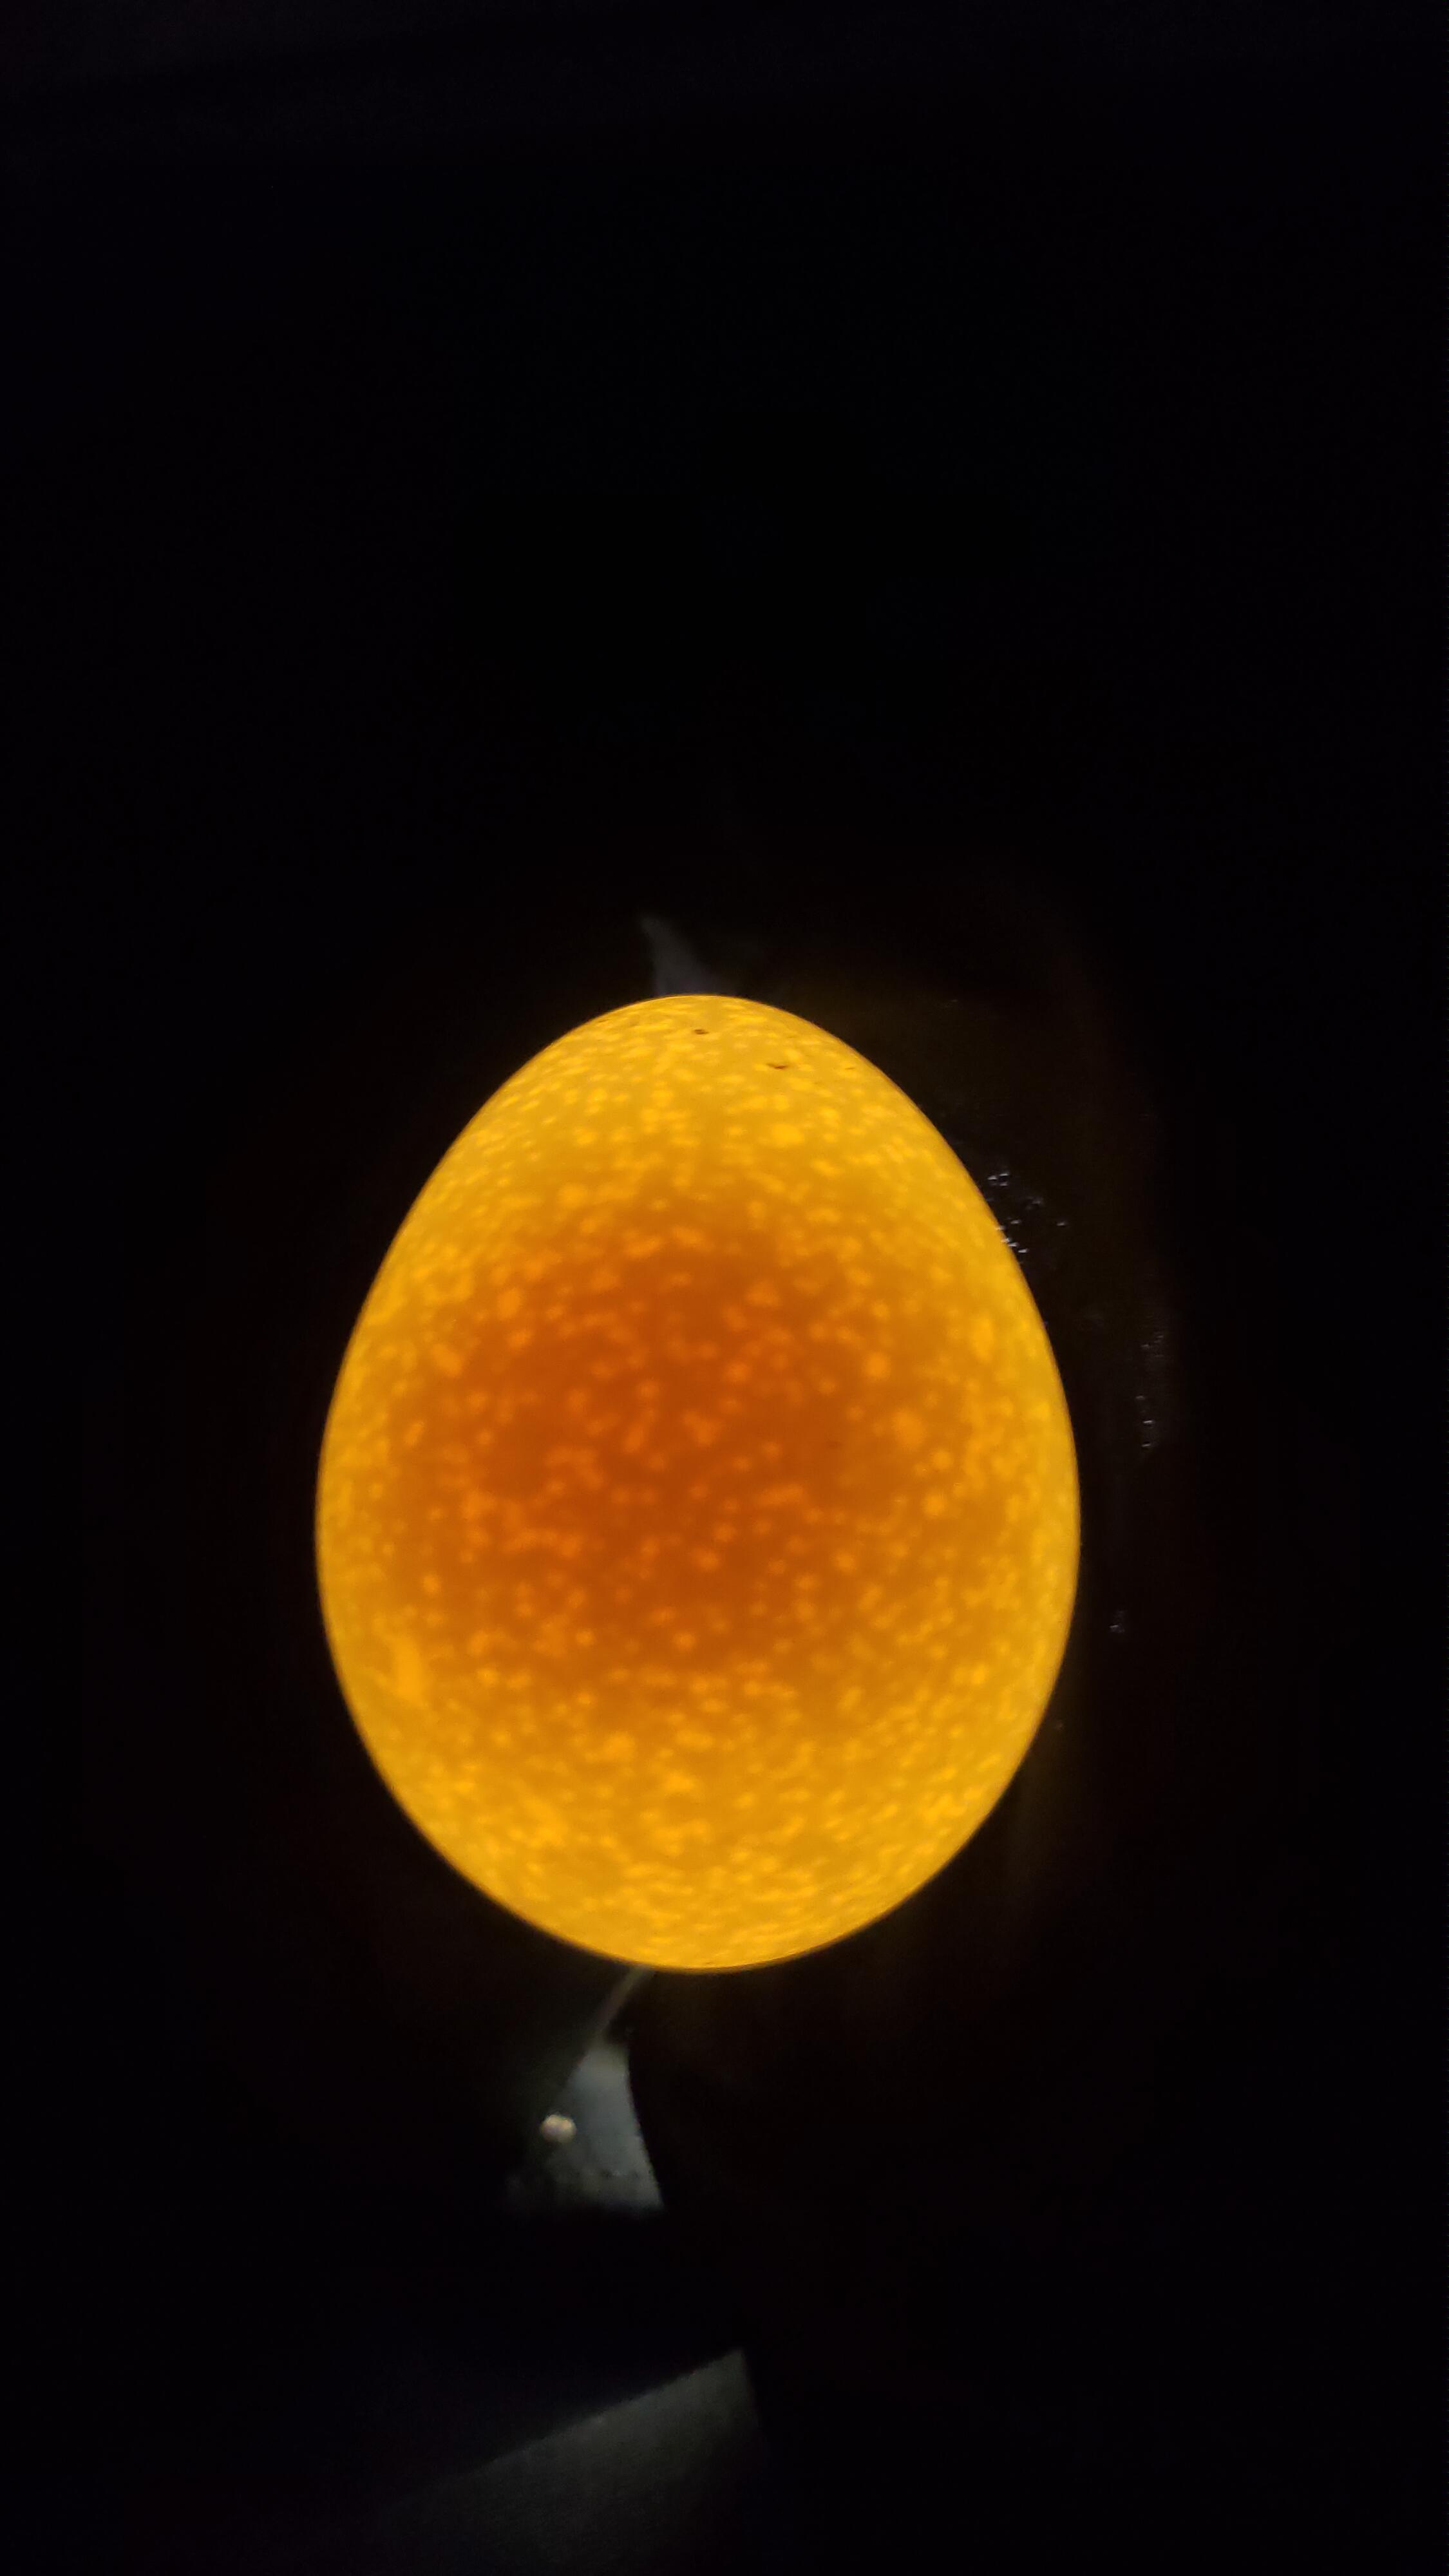A - Good: (258, 959, 1134, 2029)
